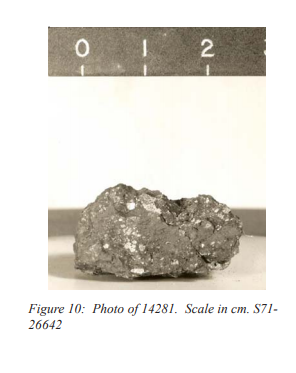Breccia: (63, 187, 242, 286)
